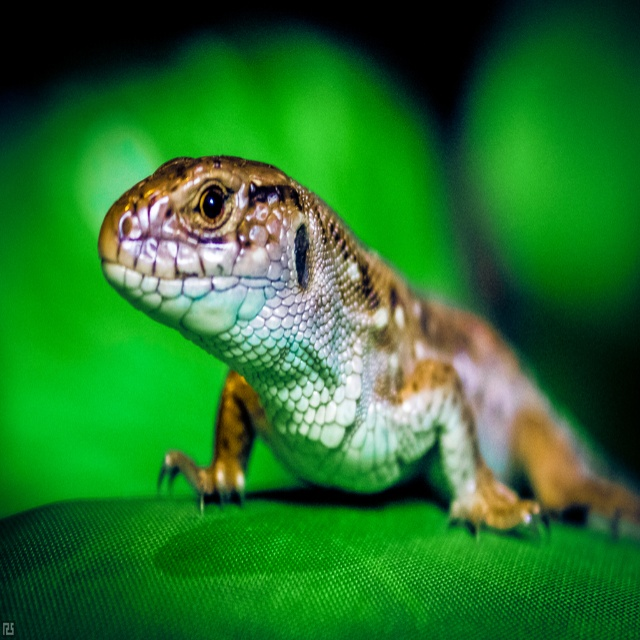Lizard: (100, 155, 637, 534)
